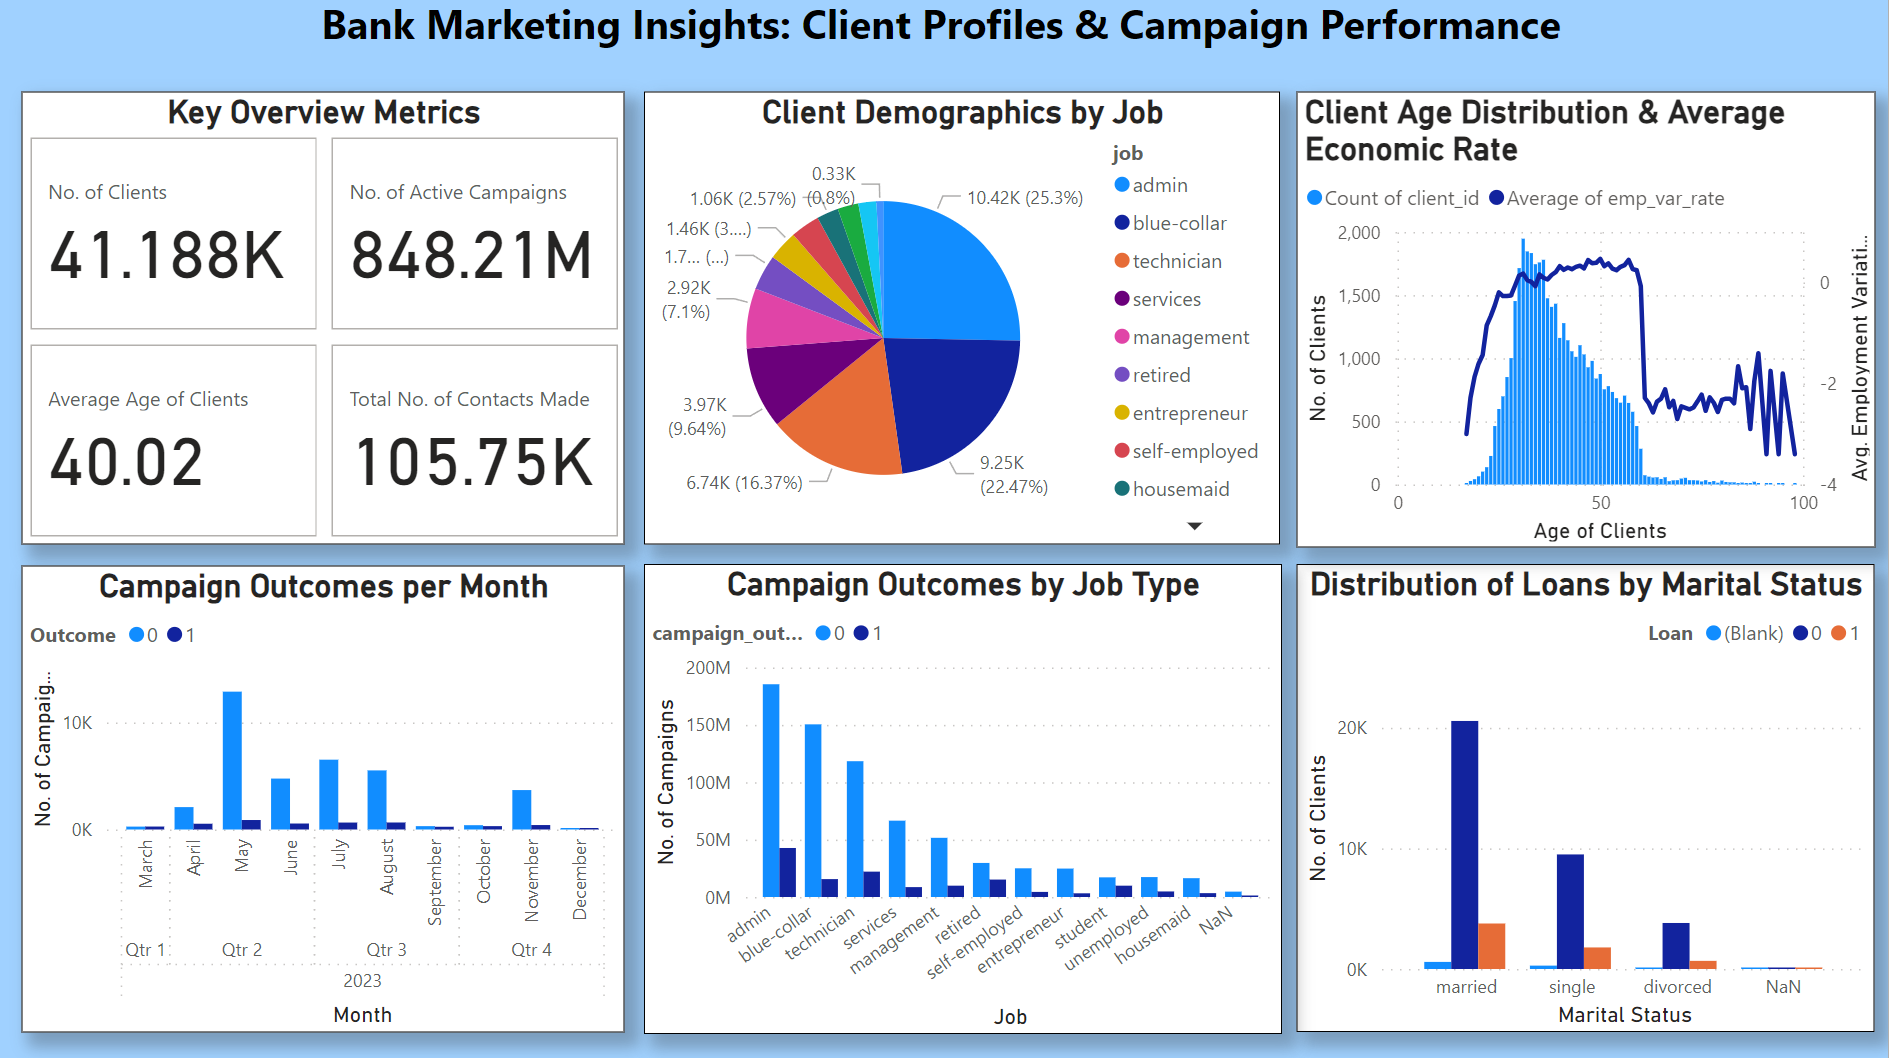

This screenshot's page, from the dashboard's own definition file:
{"tool":"powerbi","page":{"name":"Page 1","canvas":[1280,720],"ordinal":0},"visuals":[{"type":"cardVisual","title":"Key Overview Metrics","fields":{"Data":["CountNonNull(public client.client_id)","Sum(public campaign.campaign_id)","Avg(public client.age)","Sum(public campaign.number_contacts)"]},"box":[18.8,68.8,402.5,302.5],"z":4},{"type":"pieChart","title":"Client Demographics by Job","fields":{"Y":["CountNonNull(public campaign.client_id)"],"Category":["public client.job"]},"box":[433.8,68.8,423.8,302.5],"z":5},{"type":"clusteredColumnChart","title":"Campaign Outcomes per Month","fields":{"Category":["public campaign.last_contact_date.Variation.Date Hierarchy.Year","public campaign.last_contact_date.Variation.Date Hierarchy.Quarter","public campaign.last_contact_date.Variation.Date Hierarchy.Month","public campaign.last_contact_date.Variation.Date Hierarchy.Day"],"Y":["Count(public campaign.campaign_id)"],"Series":["public campaign.campaign_outcome"]},"box":[18.8,385,402.5,311.2],"z":6},{"type":"clusteredColumnChart","title":"Distribution of Loans by Marital Status","fields":{"Category":["public client.marital"],"Y":["CountNonNull(public campaign.client_id)"],"Series":["public client.loan"]},"box":[868.6,384.3,385.7,311.4],"z":7},{"type":"clusteredColumnChart","title":"Campaign Outcomes by Job Type","fields":{"Category":["public client.job"],"Y":["Sum(public campaign.campaign_id)"],"Series":["public campaign.campaign_outcome"]},"box":[434.3,384.3,424.3,312.9],"z":9},{"type":"lineClusteredColumnComboChart","title":"Client Age Distribution & Average Economic Rate","fields":{"Category":["public client.age"],"Y":["CountNonNull(public campaign.client_id)"],"Y2":["Avg(public economics.emp_var_rate)"]},"box":[868.8,68.8,386.2,303.8],"z":10},{"type":"textbox","box":[8.8,0,1246.2,57.5],"z":11}]}

Visuals, with their boxes in screenshot pixels (x1, y1, x2, y2), scaled from the page's 1280x720 canvas onto the 1889x1058 screenshot:
"Key Overview Metrics" cardVisual: bbox=[28, 101, 622, 546]
"Client Demographics by Job" pieChart: bbox=[640, 101, 1266, 546]
"Campaign Outcomes per Month" clusteredColumnChart: bbox=[28, 566, 622, 1023]
"Distribution of Loans by Marital Status" clusteredColumnChart: bbox=[1282, 565, 1851, 1022]
"Campaign Outcomes by Job Type" clusteredColumnChart: bbox=[641, 565, 1267, 1024]
"Client Age Distribution & Average Economic Rate" lineClusteredColumnComboChart: bbox=[1282, 101, 1852, 548]
textbox: bbox=[13, 0, 1852, 84]
